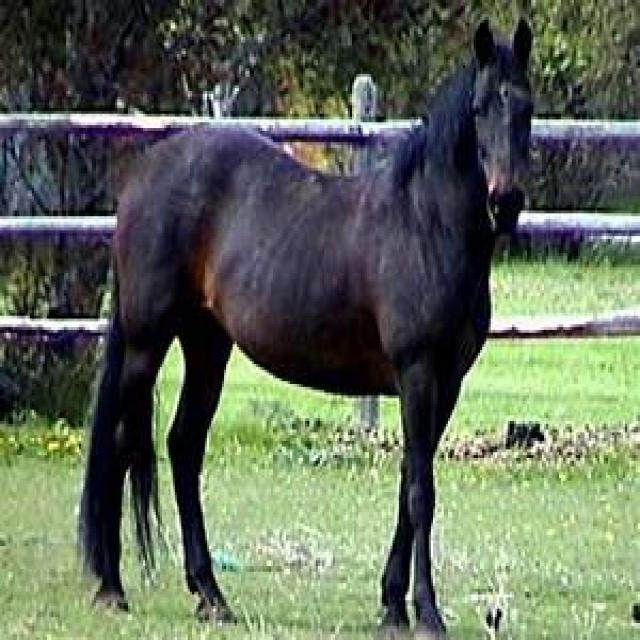horse: (80, 22, 532, 634)
